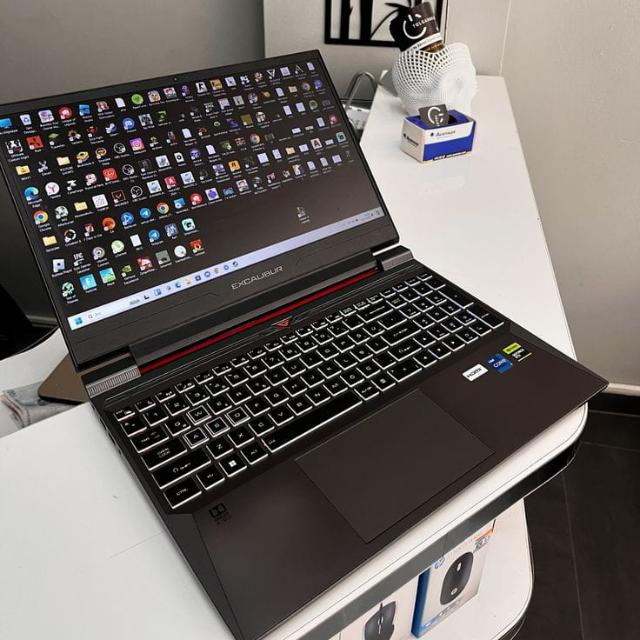laptop: (12, 24, 382, 640)
